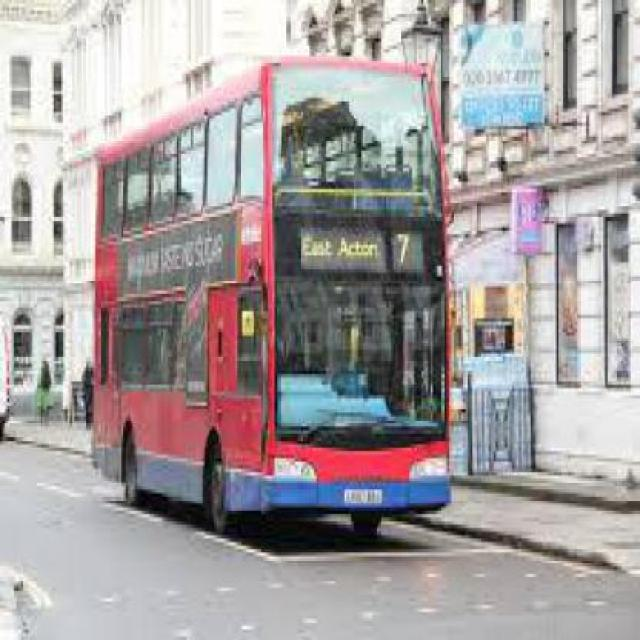bus: (95, 56, 447, 540)
